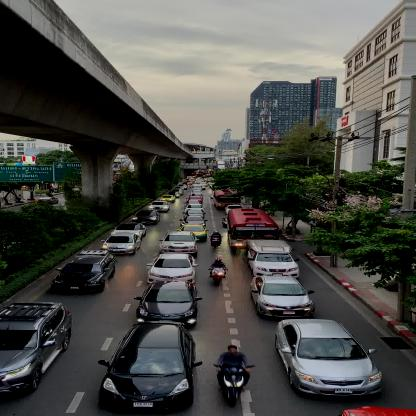bus: (227, 208, 280, 256)
car: (98, 320, 202, 411), (276, 318, 384, 398), (0, 301, 73, 401), (132, 280, 205, 326), (50, 250, 117, 294), (252, 276, 318, 316), (248, 240, 301, 278), (144, 252, 199, 280), (100, 233, 142, 256), (158, 231, 196, 254), (178, 224, 210, 242), (110, 223, 148, 238)
motorcycle: (212, 343, 259, 408), (207, 256, 229, 286), (210, 230, 224, 250)
